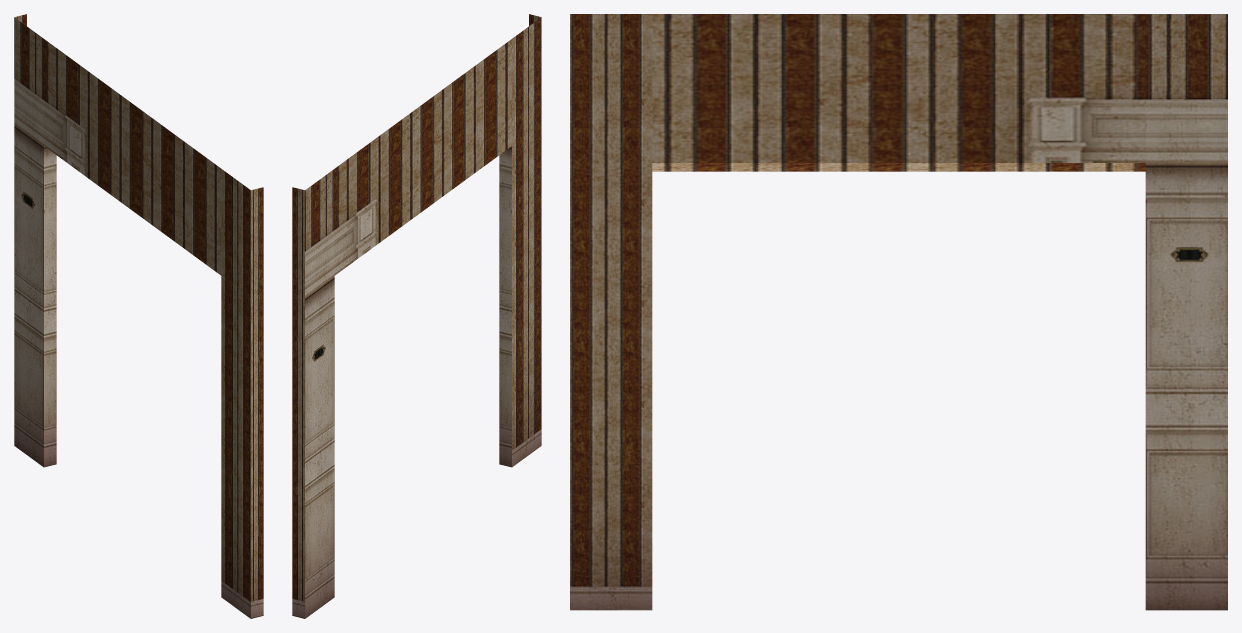
The model's file is door-frame_4x4_S.obj.
3 renders of one model, left to right at view 1: azimuth 30°, elevation 25°; view 2: azimuth 150°, elevation 25°; view 3: azimuth 270°, elevation 25°, orthographic. The views are drawn at different scales.
Parts seen in each view (by area): view 1: door-frame_4x4_S_Cube.028; view 2: door-frame_4x4_S_Cube.028; view 3: door-frame_4x4_S_Cube.028.
Boxes of the visible parts, bbox=[...] form: door-frame_4x4_S_Cube.028: bbox=[14, 14, 263, 618]; door-frame_4x4_S_Cube.028: bbox=[292, 14, 541, 618]; door-frame_4x4_S_Cube.028: bbox=[570, 14, 1227, 610].
Bounding box in the file's own units: 0.125 × 4 × 4.
